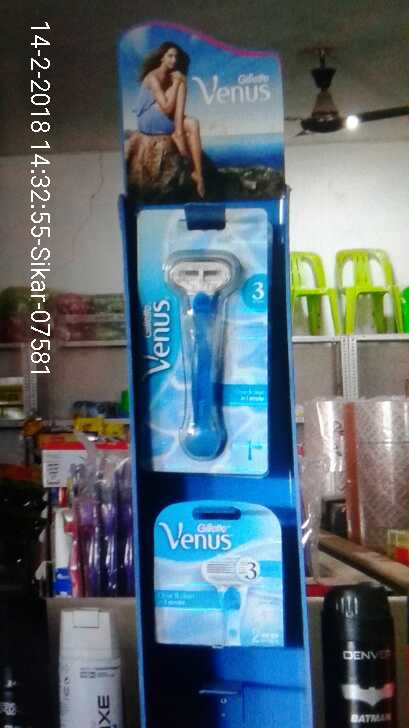venus: (130, 204, 273, 475), (141, 504, 285, 650)
